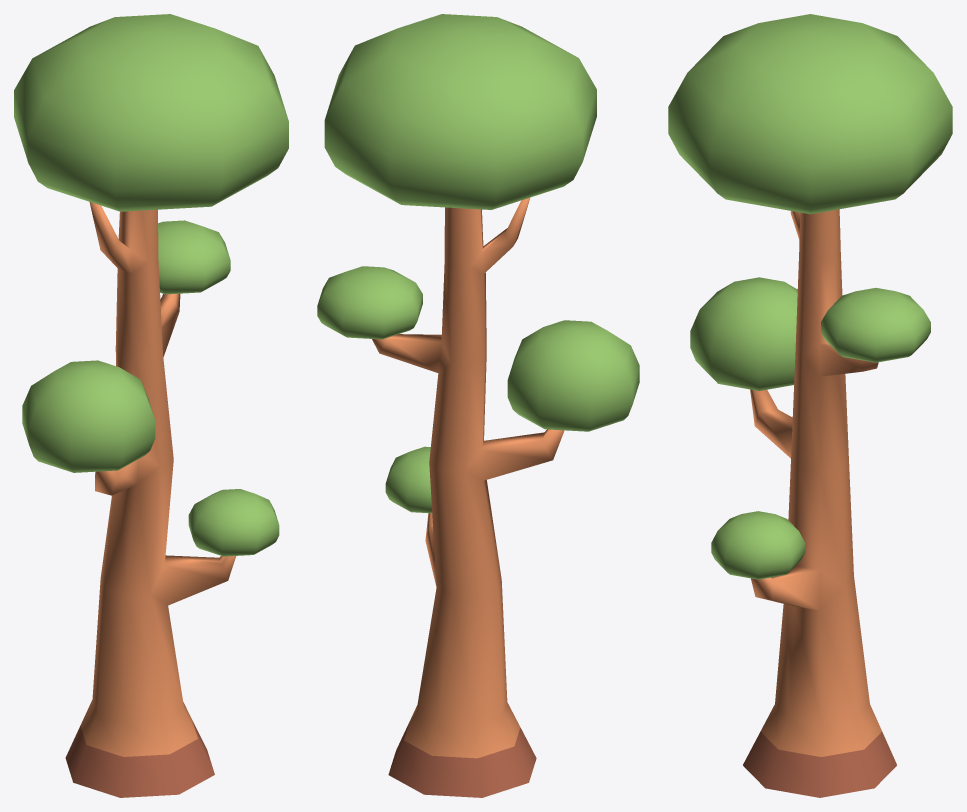
File: Tree_a.FBX
3 views of the same model, side by side, from view 1: azimuth 30°, elevation 25°; view 2: azimuth 150°, elevation 25°; view 3: azimuth 270°, elevation 25° (orthographic).
Parts seen in each view (by area): view 1: Tree_a; view 2: Tree_a; view 3: Tree_a.
Part boxes in pixels (x1,y1,x2,y2): Tree_a: (14, 14, 288, 797); Tree_a: (317, 14, 639, 797); Tree_a: (668, 14, 952, 797).
Bounding box in the file's own units: 117 × 302 × 106.
